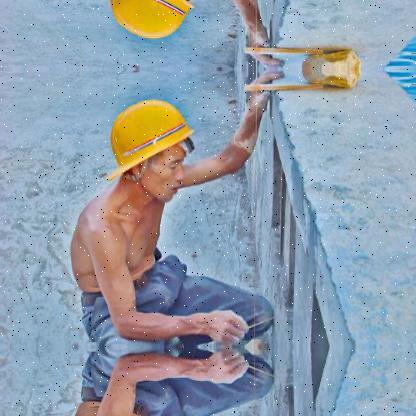Helmet: (99, 92, 201, 212), (103, 0, 203, 48)
